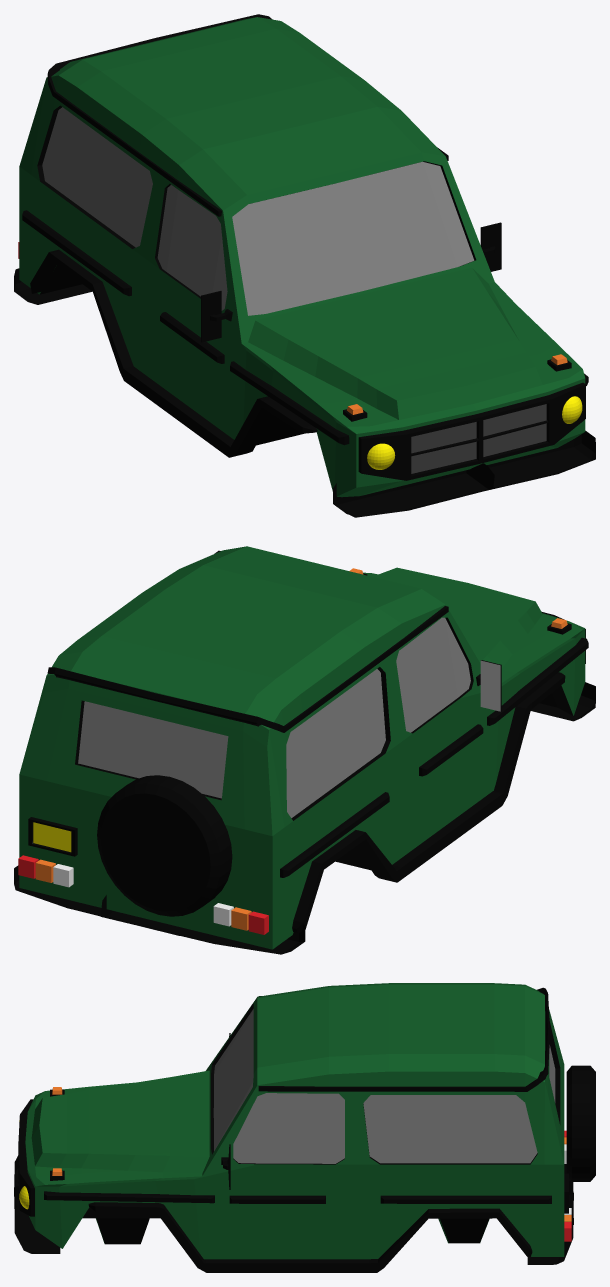
File: Avto_1_2.fbx
3 renders of one model, top to bottom at view 1: azimuth 30°, elevation 25°; view 2: azimuth 150°, elevation 25°; view 3: azimuth 270°, elevation 25°, orthographic. The views are drawn at different scales.
Parts seen in each view (by area): view 1: Cube, Cube.001; view 2: Cube, Cylinder, Cube.002; view 3: Cube, Cylinder, Cube.001.
Part boxes in pixels (x1=…): Cube: x1=14, y1=14, x2=595, y2=517; Cube.001: x1=358, y1=382, x2=585, y2=480; Cube: x1=14, y1=546, x2=595, y2=954; Cylinder: x1=97, y1=775, x2=232, y2=916; Cube.002: x1=28, y1=817, x2=77, y2=856; Cube: x1=14, y1=983, x2=573, y2=1272; Cylinder: x1=566, y1=1065, x2=595, y2=1181; Cube.001: x1=18, y1=1099, x2=34, y2=1216.
Size of the model in its own units: 71.45 by 59.76 by 148.
